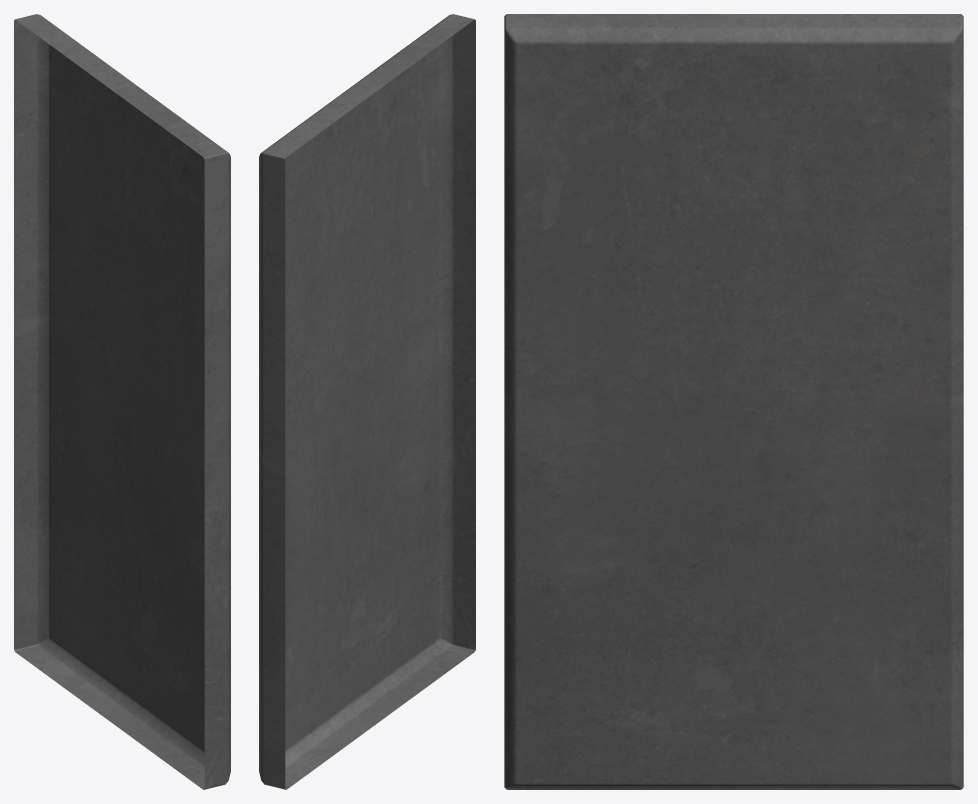
Rendered from cP_Pathway03_SteppingStoneLong.dae.
The picture shows the model from 3 angles, left to right: view 1: azimuth 30°, elevation 25°; view 2: azimuth 150°, elevation 25°; view 3: azimuth 270°, elevation 25°; orthographic projection. The views are drawn at different scales.
Visible parts, largest first — view 1: cP_Pathway03_SteppingStoneLong.001; view 2: cP_Pathway03_SteppingStoneLong.001; view 3: cP_Pathway03_SteppingStoneLong.001.
Part boxes in pixels (x1=…): cP_Pathway03_SteppingStoneLong.001: x1=14, y1=14, x2=230, y2=789; cP_Pathway03_SteppingStoneLong.001: x1=259, y1=14, x2=475, y2=789; cP_Pathway03_SteppingStoneLong.001: x1=504, y1=14, x2=963, y2=789.
Bounding box in the file's own units: 0.0499 × 0.5222 × 0.9566.
